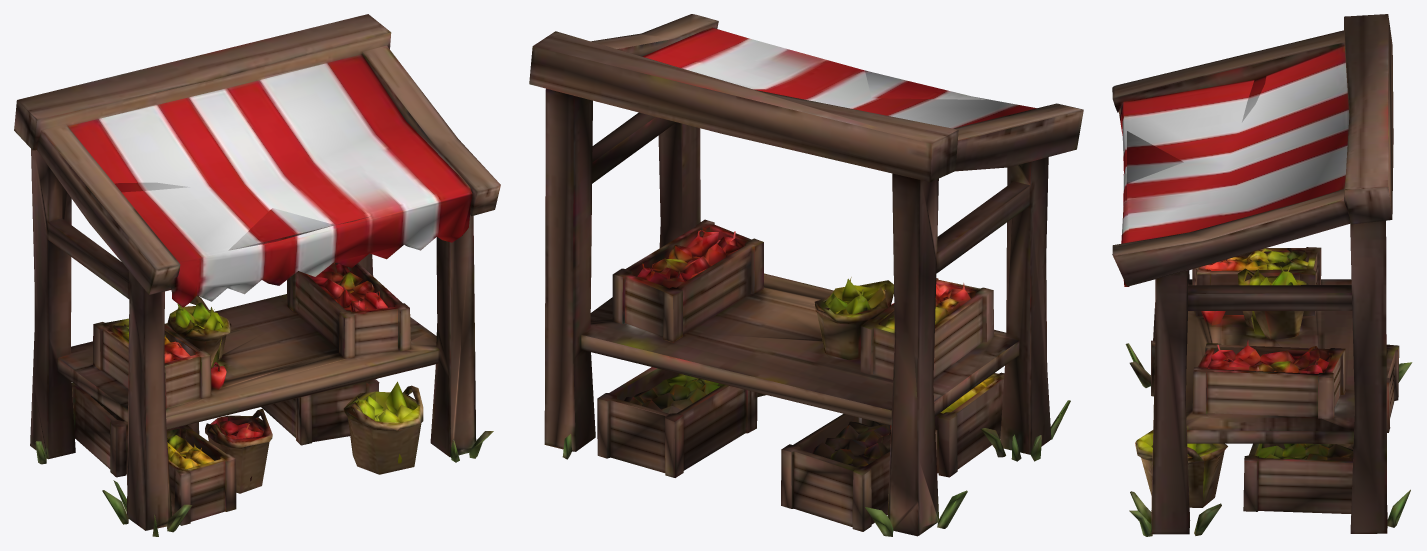
File: market-stall-a.glb
The picture shows the model from 3 angles, left to right: view 1: azimuth 30°, elevation 25°; view 2: azimuth 150°, elevation 25°; view 3: azimuth 270°, elevation 25°; orthographic projection. The views are drawn at different scales.
Visible parts, largest first — view 1: node_0; view 2: node_0; view 3: node_0.
Part boxes in pixels (left/top/right/bottom): node_0: left=14, top=14, right=500, bottom=536; node_0: left=529, top=14, right=1083, bottom=536; node_0: left=1112, top=14, right=1412, bottom=536.
Size of the model in its own units: 2.99 by 2.79 by 2.14.
Materials: 1 (1 with a texture image).
